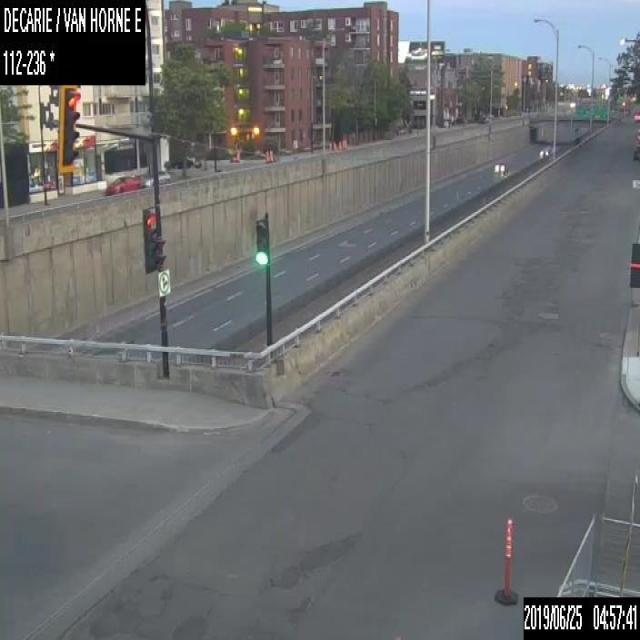construction: (494, 514, 520, 602), (268, 148, 272, 162), (341, 138, 346, 148), (235, 148, 239, 160), (264, 149, 268, 160), (337, 139, 341, 149), (332, 140, 335, 149), (329, 141, 331, 150)
vehicle: (105, 169, 140, 192), (140, 168, 169, 186), (494, 158, 507, 172), (538, 144, 550, 156)
